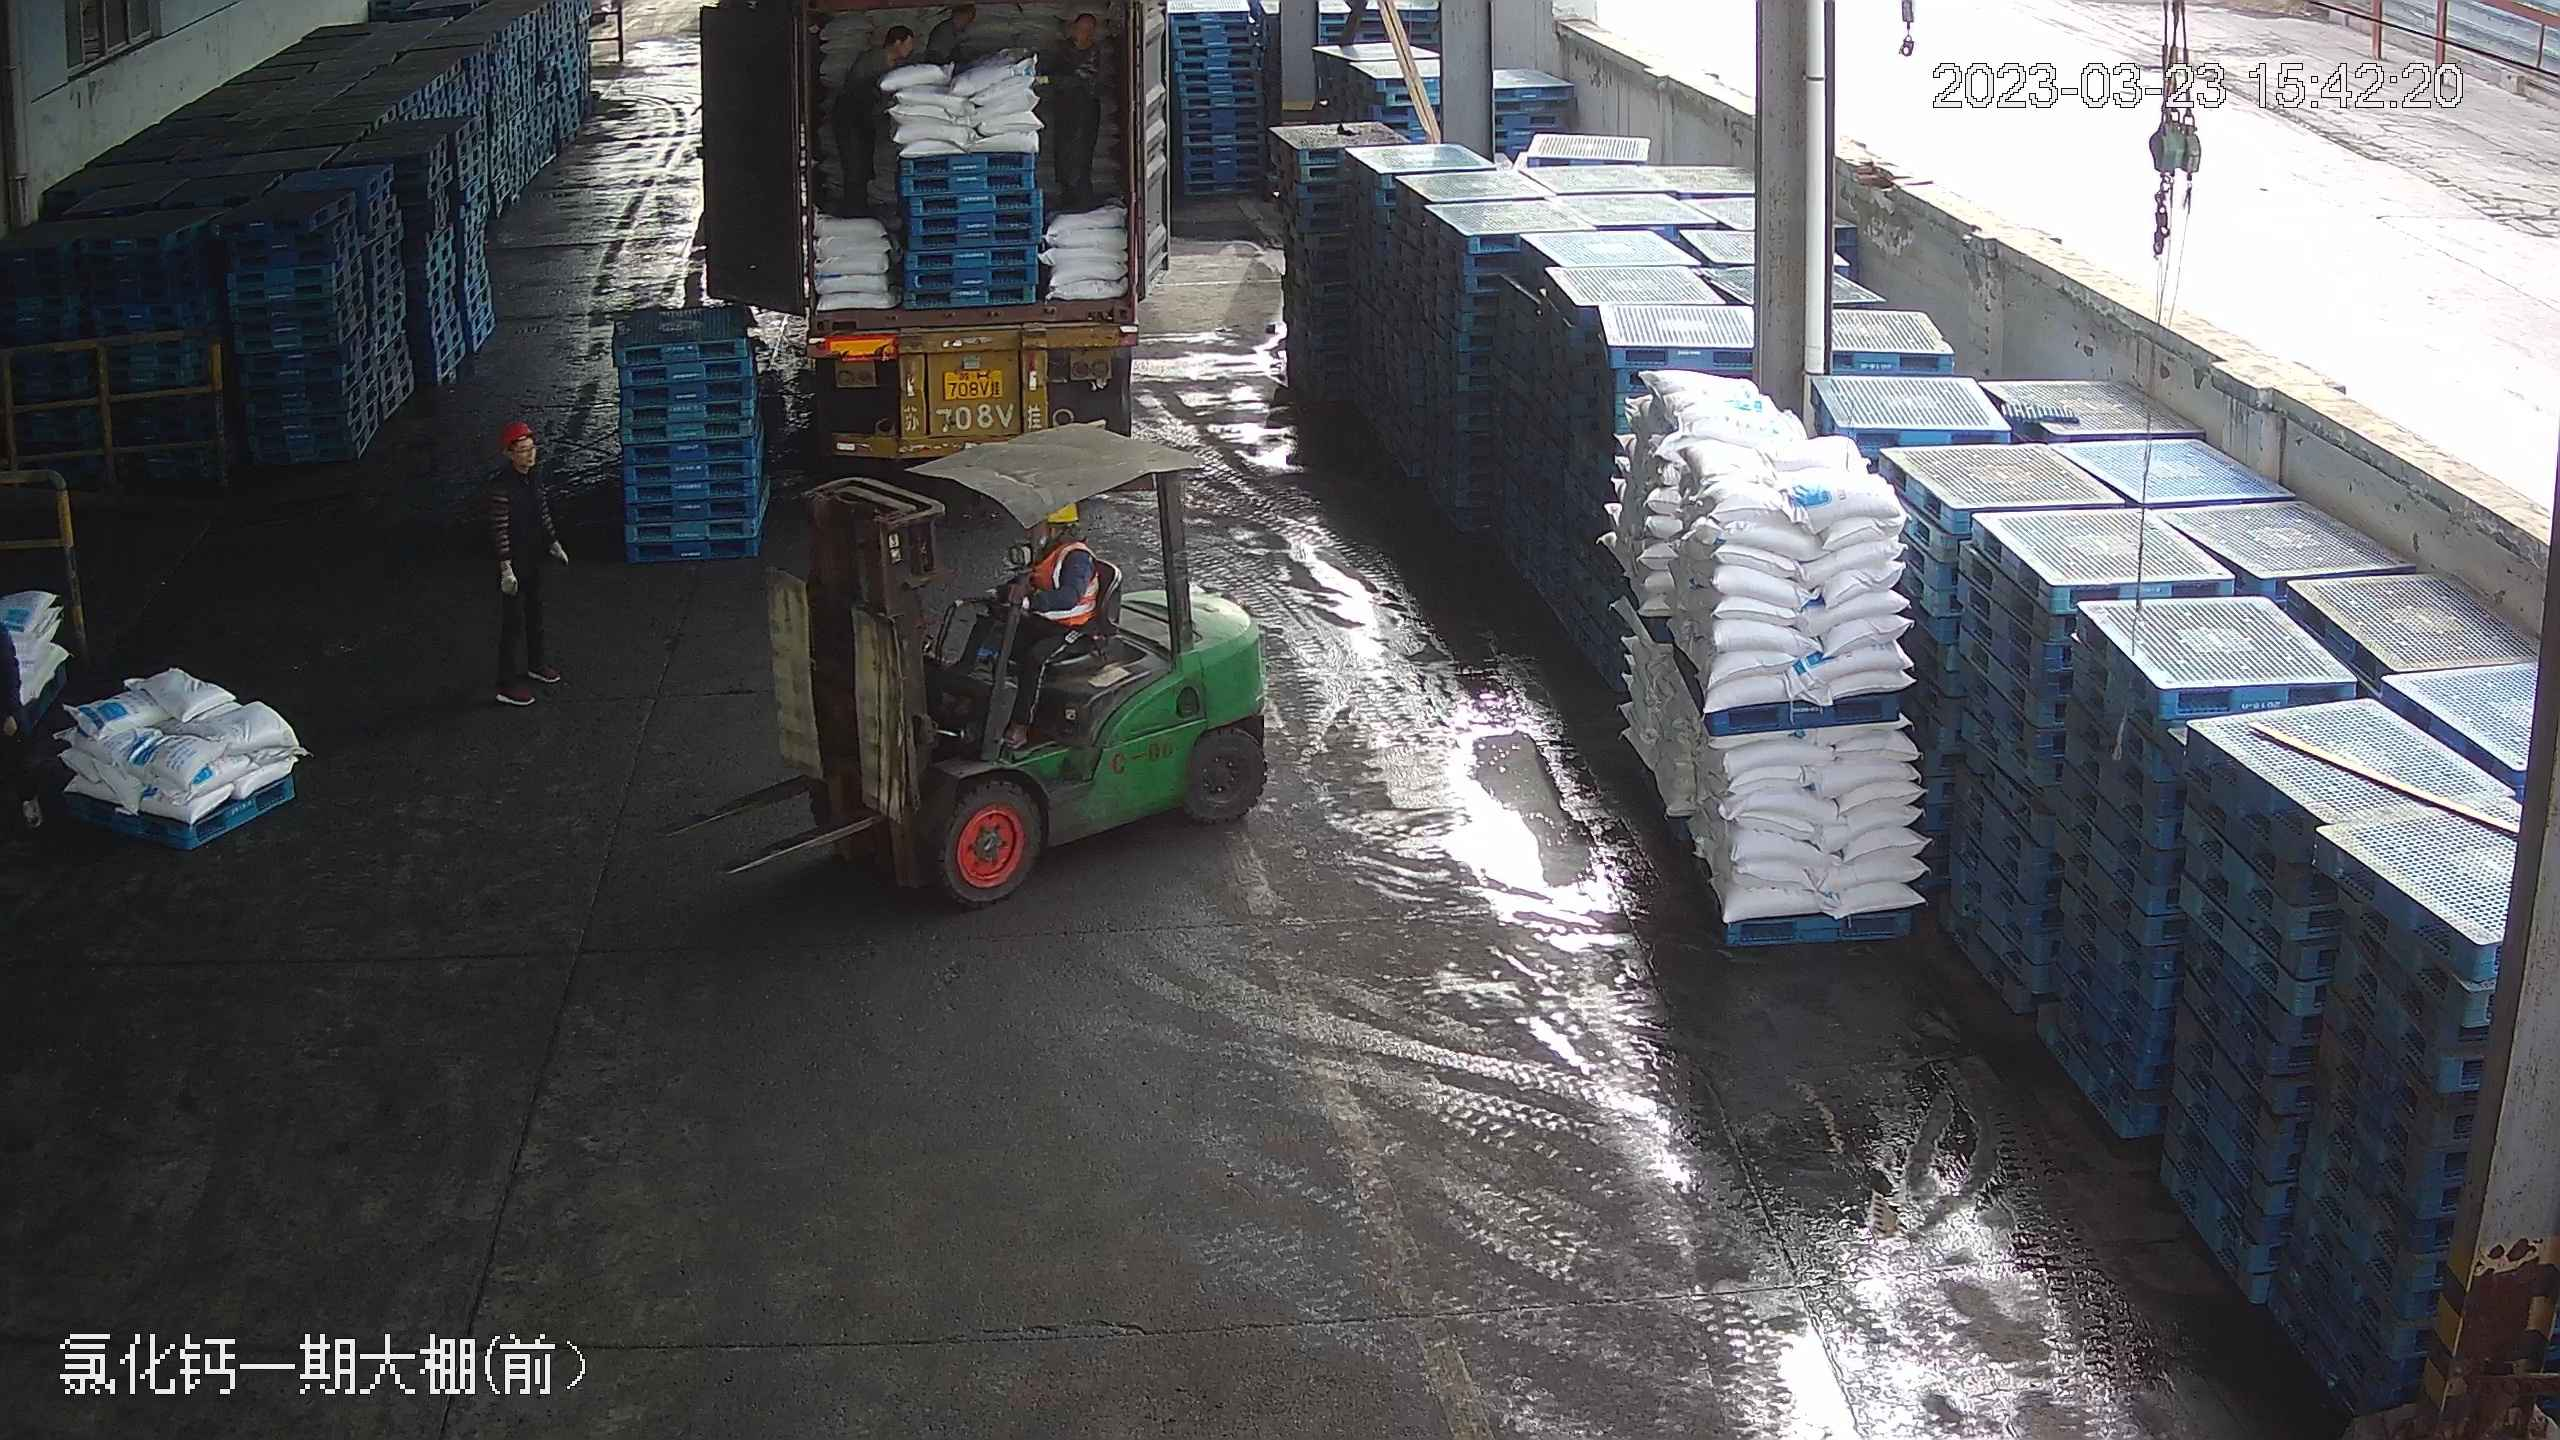head: (488, 420, 554, 517), (1029, 504, 1104, 588), (851, 23, 916, 88), (920, 2, 978, 66), (1055, 16, 1106, 78)
helmet: (497, 421, 536, 452), (1046, 505, 1082, 530)
people: (993, 500, 1111, 746), (484, 418, 572, 707), (830, 22, 917, 215), (1048, 13, 1105, 210)
truck: (771, 12, 1174, 435)
